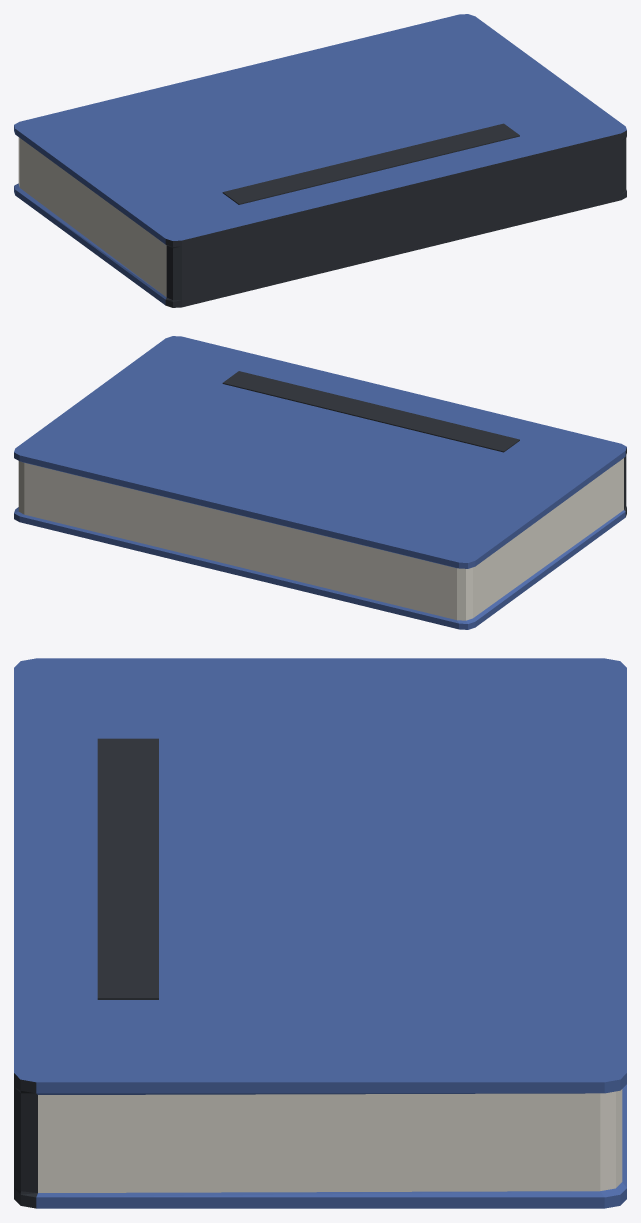
Rendered from book_paperback.glb.
3 views of the same model, one above another, from view 1: azimuth 30°, elevation 25°; view 2: azimuth 150°, elevation 25°; view 3: azimuth 270°, elevation 25° (orthographic). The views are drawn at different scales.
Parts seen in each view (by area): view 1: book_paperback; view 2: book_paperback; view 3: book_paperback.
Boxes of the visible parts, x1,y1,x2,y2 form: book_paperback: [14, 14, 626, 307]; book_paperback: [14, 336, 626, 629]; book_paperback: [14, 658, 626, 1208].
Bounding box in the file's own units: 0.18 × 0.0254 × 0.11.
